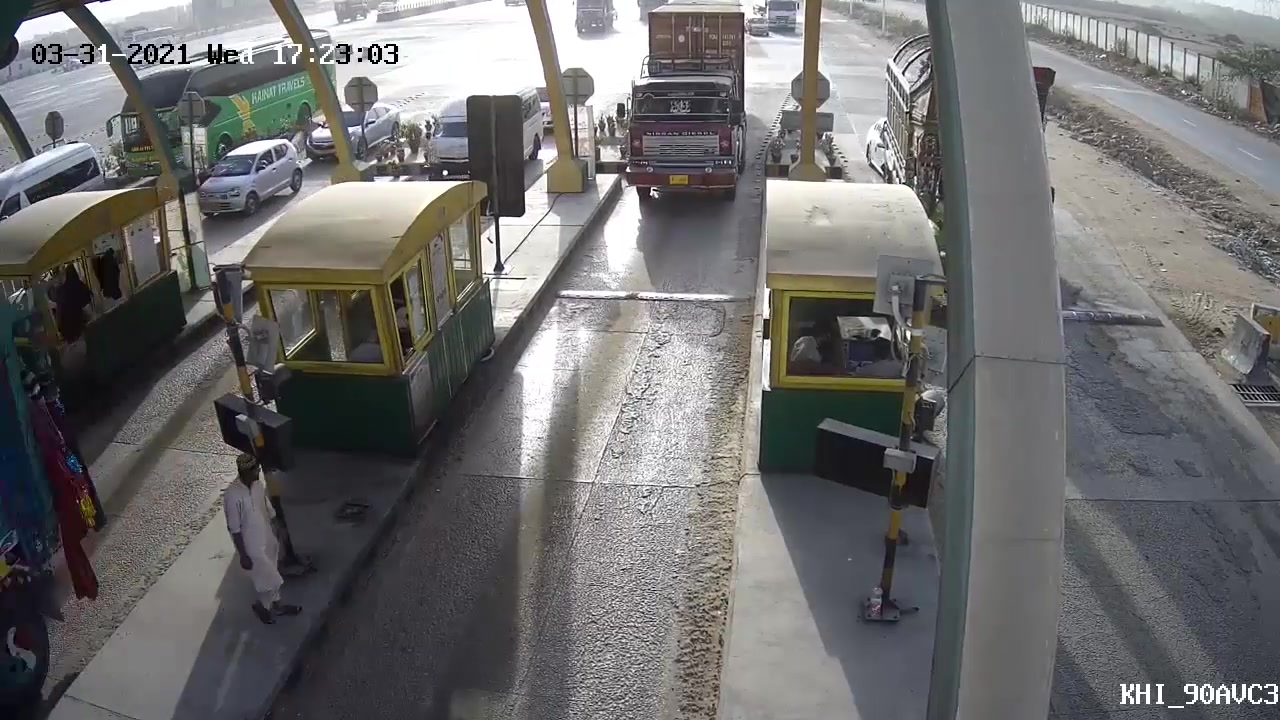F6: (611, 3, 765, 229)
